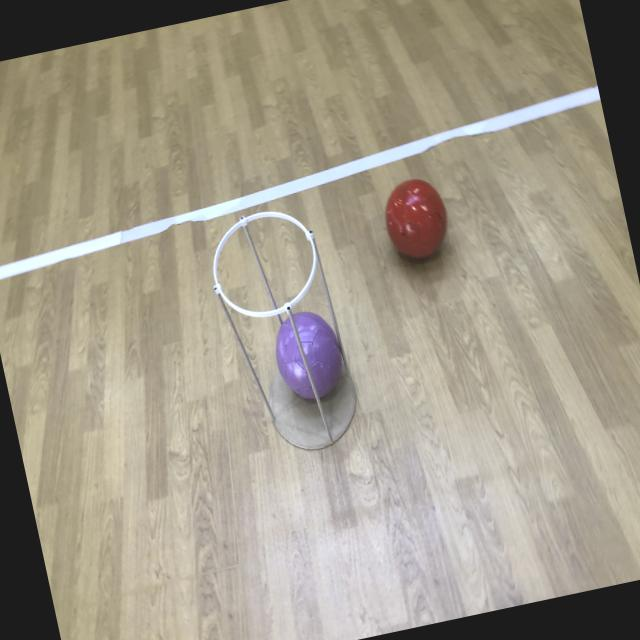purple_ball: (267, 304, 351, 406)
red_ball: (378, 173, 455, 265)
